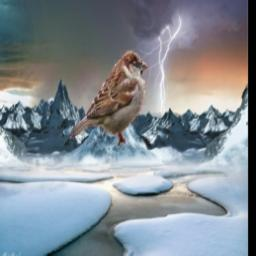Sparrow: (69, 51, 148, 147)
